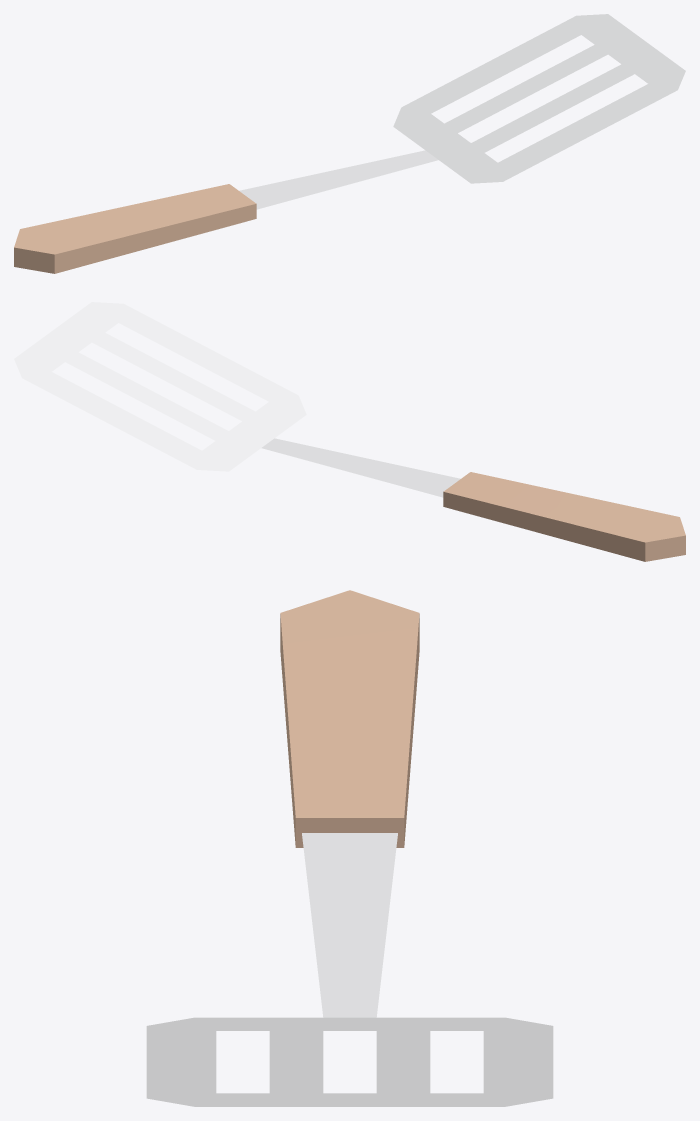
The model's file is Cooking spatula.fbx.
3 renders of one model, top to bottom at view 1: azimuth 30°, elevation 25°; view 2: azimuth 150°, elevation 25°; view 3: azimuth 270°, elevation 25°, orthographic. The views are drawn at different scales.
Parts seen in each view (by area): view 1: cookingSpatula; view 2: cookingSpatula; view 3: cookingSpatula.
Boxes of the visible parts, x1=… form: cookingSpatula: x1=14, y1=14, x2=685, y2=273; cookingSpatula: x1=14, y1=302, x2=685, y2=561; cookingSpatula: x1=146, y1=590, x2=553, y2=1106.
Bounding box in the file's own units: 68.27 × 7.21 × 19.
